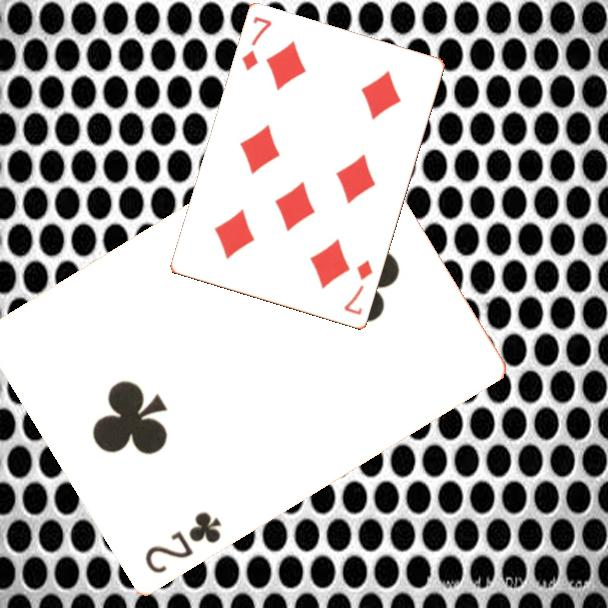c02: (141, 507, 225, 576)
d07: (239, 13, 275, 74), (341, 257, 376, 318)
